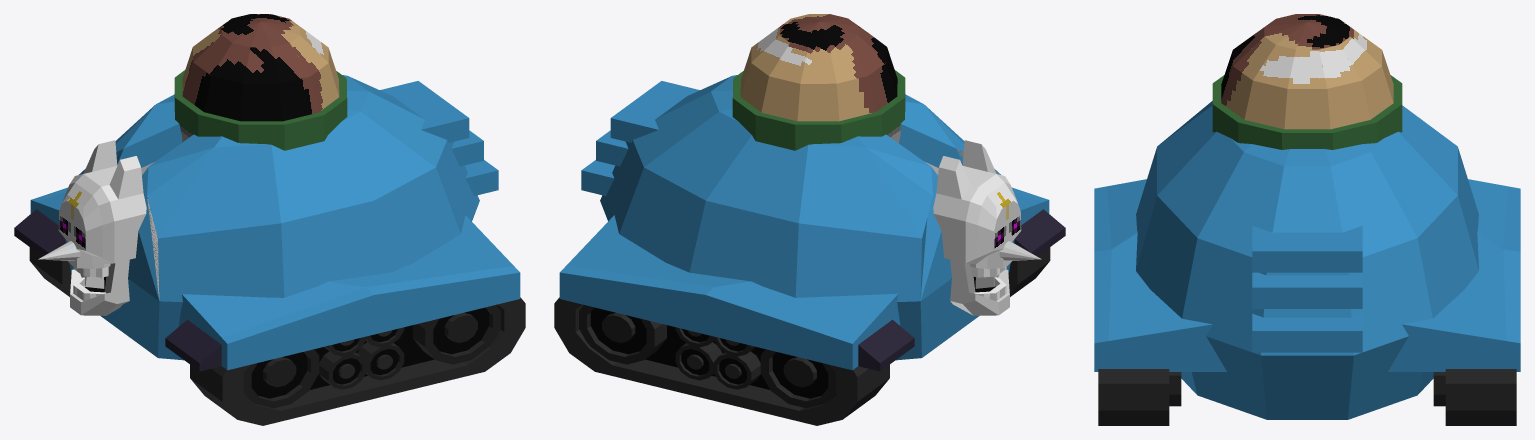
The model's file is SheerHeart.glb.
The picture shows the model from 3 angles, left to right: view 1: azimuth 30°, elevation 25°; view 2: azimuth 150°, elevation 25°; view 3: azimuth 270°, elevation 25°; orthographic projection. The views are drawn at different scales.
Visible parts, largest first — view 1: group, cylinder; view 2: group, cylinder; view 3: group, cylinder.
Boxes of the visible parts, x1,y1,x2,y2 form: group: (14,14,520,371); cylinder: (29,247,525,425); group: (559,14,1065,371); cylinder: (554,247,1050,425); group: (1094,14,1520,419); cylinder: (1098,369,1516,425).
Size of the model in its own units: 5.84 by 3.98 by 4.57.
3 materials, 3 textured.
